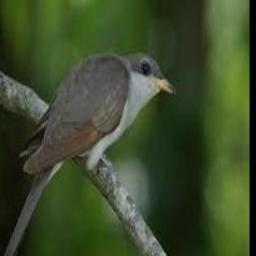Cuckoo: (0, 50, 175, 256)
